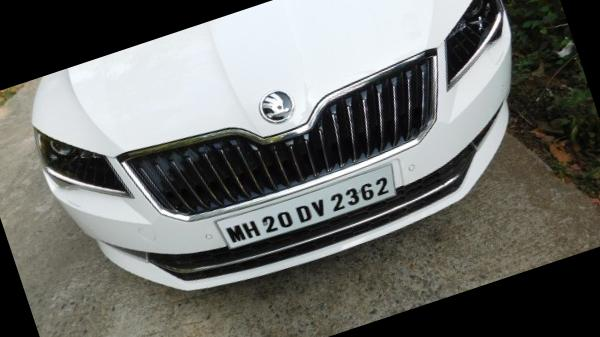plate: (207, 151, 420, 263)
